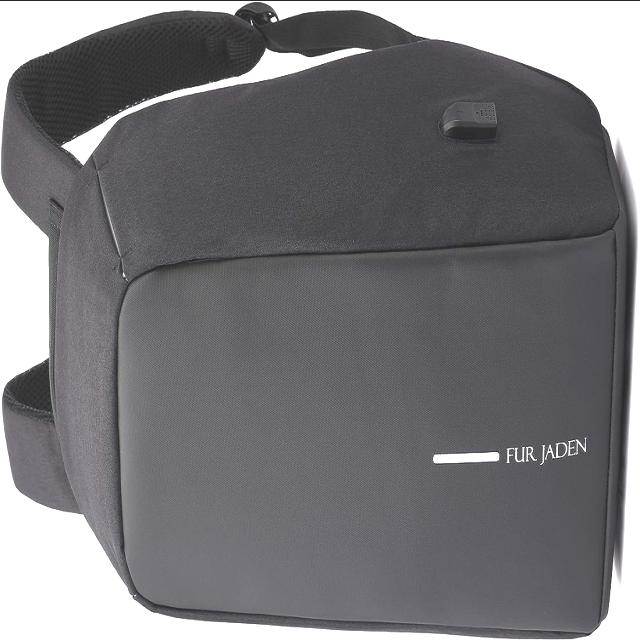backpack: (2, 5, 630, 640)
